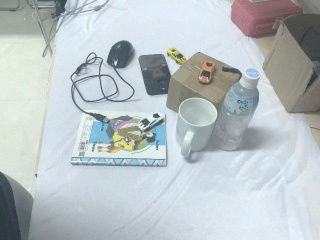book: (74, 101, 169, 172)
bottle: (208, 68, 260, 152)
box: (263, 12, 320, 114), (166, 51, 242, 111)
cup: (175, 98, 221, 161)
mouse: (106, 40, 136, 69)
phone: (138, 51, 171, 95)
toy_car: (136, 112, 164, 131), (166, 47, 188, 66), (198, 61, 215, 85)
